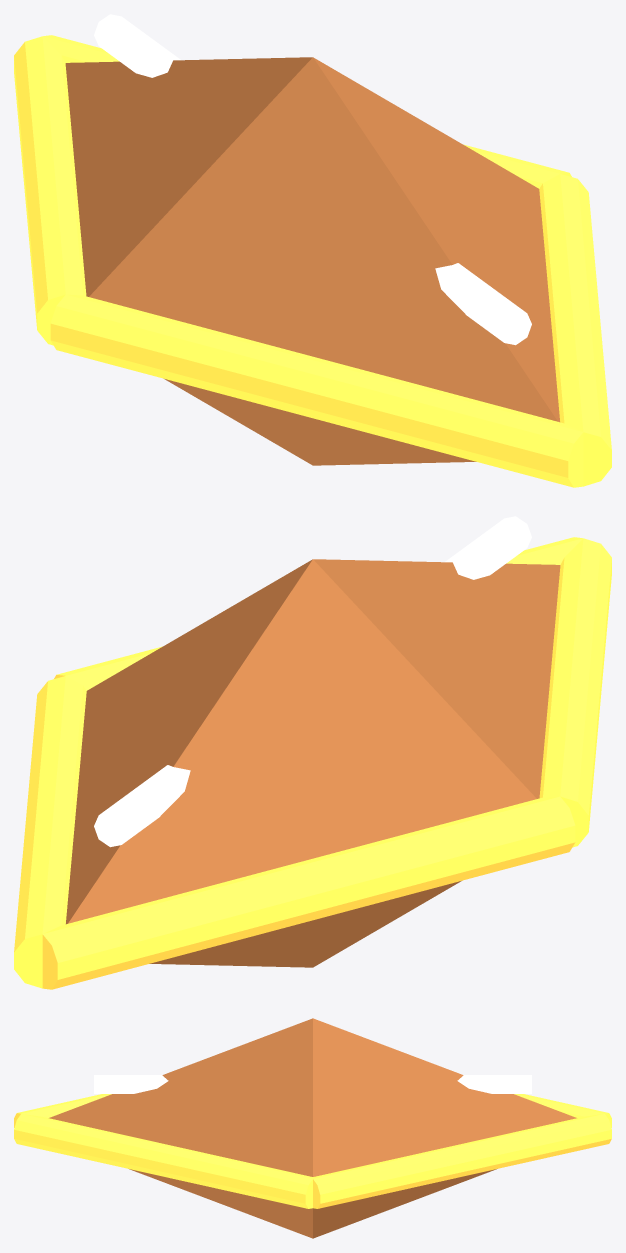
The model's file is shield_breaker.glb.
3 renders of one model, top to bottom at view 1: azimuth 30°, elevation 25°; view 2: azimuth 150°, elevation 25°; view 3: azimuth 270°, elevation 25°, orthographic. The views are drawn at different scales.
Visible parts, largest first — view 1: ShieldBreakerHeavyHammerShard, ShieldBreakerOrangeEdge2, ShieldBreakerOrangeEdge3, ShieldBreakerOrangeEdge1, ShieldBreakerWhiteStrikeCore, ShieldBreakerOrangeEdge0; view 2: ShieldBreakerHeavyHammerShard, ShieldBreakerOrangeEdge3, ShieldBreakerOrangeEdge2, ShieldBreakerOrangeEdge0, ShieldBreakerWhiteStrikeCore, ShieldBreakerOrangeEdge1; view 3: ShieldBreakerHeavyHammerShard, ShieldBreakerOrangeEdge0, ShieldBreakerOrangeEdge1, ShieldBreakerWhiteStrikeCore, ShieldBreakerOrangeEdge2, ShieldBreakerOrangeEdge3.
Boxes of the visible parts, box(x1,y1,x2,y2) form: ShieldBreakerHeavyHammerShard: box(65, 57, 559, 465); ShieldBreakerOrangeEdge2: box(50, 294, 583, 487); ShieldBreakerOrangeEdge3: box(14, 36, 86, 345); ShieldBreakerOrangeEdge1: box(539, 174, 611, 486); ShieldBreakerWhiteStrikeCore: box(94, 14, 531, 345); ShieldBreakerOrangeEdge0: box(43, 35, 571, 188); ShieldBreakerHeavyHammerShard: box(66, 559, 560, 967); ShieldBreakerOrangeEdge3: box(42, 796, 575, 989); ShieldBreakerOrangeEdge2: box(539, 538, 611, 847); ShieldBreakerOrangeEdge0: box(14, 676, 86, 988); ShieldBreakerWhiteStrikeCore: box(94, 516, 531, 847); ShieldBreakerOrangeEdge1: box(54, 537, 582, 690); ShieldBreakerHeavyHammerShard: box(49, 1018, 576, 1238); ShieldBreakerOrangeEdge0: box(313, 1114, 611, 1208); ShieldBreakerOrangeEdge1: box(14, 1114, 312, 1208); ShieldBreakerWhiteStrikeCore: box(94, 1075, 531, 1093); ShieldBreakerOrangeEdge2: box(14, 1094, 111, 1127); ShieldBreakerOrangeEdge3: box(514, 1094, 611, 1127).
Bounding box in the file's own units: 0.8935 × 0.648 × 1.59.
